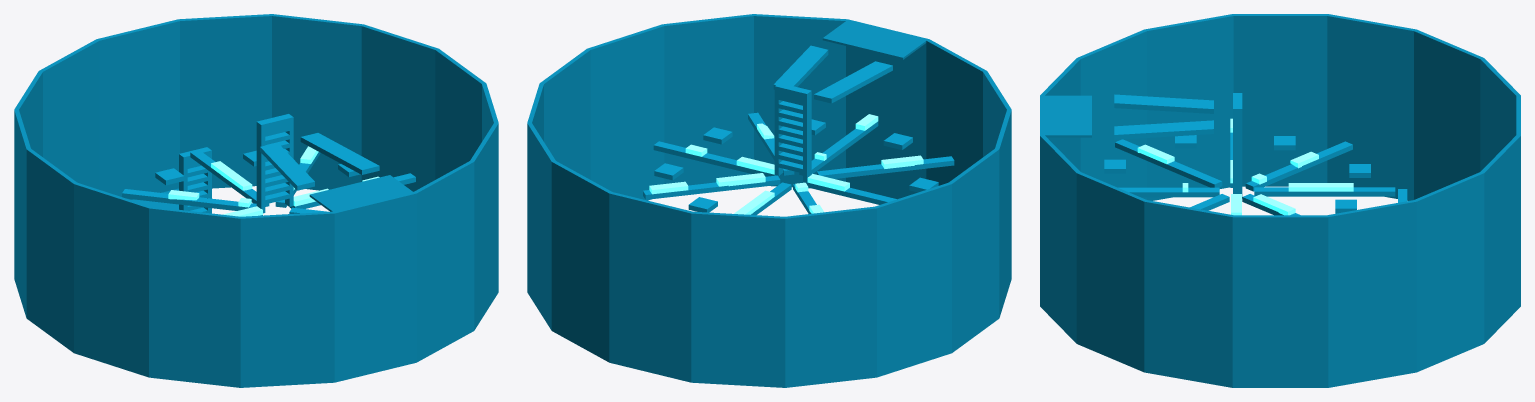
The model's file is Stage_5.fbx.
The picture shows the model from 3 angles, left to right: view 1: azimuth 30°, elevation 25°; view 2: azimuth 150°, elevation 25°; view 3: azimuth 270°, elevation 25°; orthographic projection.
Parts seen in each view (by area): view 1: stage_5, stage_5_ladders, stage_5_deads; view 2: stage_5, stage_5_deads, stage_5_ladders; view 3: stage_5, stage_5_deads, stage_5_ladders.
Boxes of the visible parts, x1,y1,x2,y2 form: stage_5: (14, 14, 498, 387); stage_5_ladders: (179, 121, 293, 213); stage_5_deads: (168, 146, 379, 216); stage_5: (527, 14, 1011, 387); stage_5_deads: (649, 114, 923, 214); stage_5_ladders: (774, 90, 811, 182); stage_5: (1040, 14, 1520, 387); stage_5_deads: (1137, 118, 1353, 215); stage_5_ladders: (1233, 113, 1242, 198).
Bounding box in the file's own units: 102 × 102 × 43.09.
